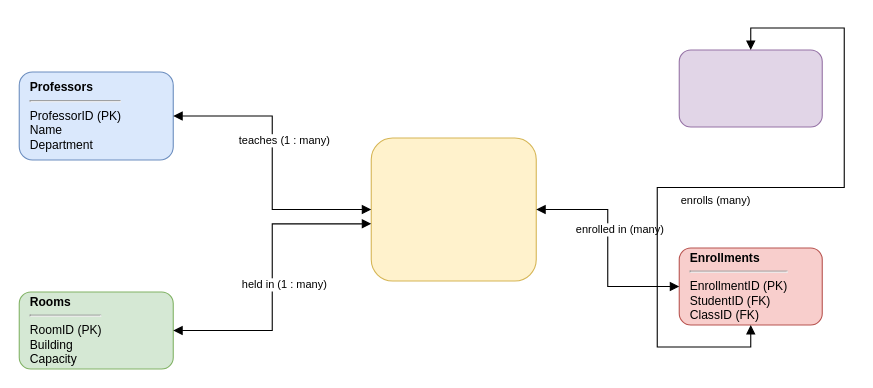
This 873x388 diagram has some shape labels left out. The shapes that lost their labels are listed below. From the top down, each one's centre as x and y in pixels, then its label:
At point (750, 88): "Students StudentID (PK) Name Major".
At point (453, 209): "Classes ClassID (PK) CourseName Subject MeetingTime ProfessorID (FK) RoomID (FK)".
